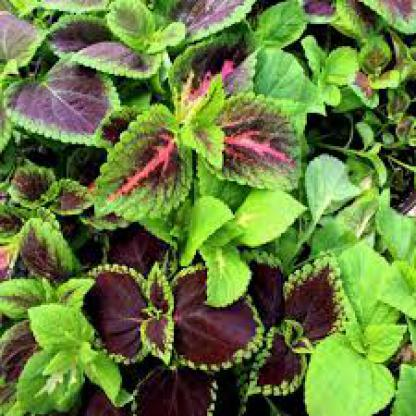Bunga Coleus: (84, 245, 254, 367), (123, 73, 277, 203), (14, 10, 110, 110)
